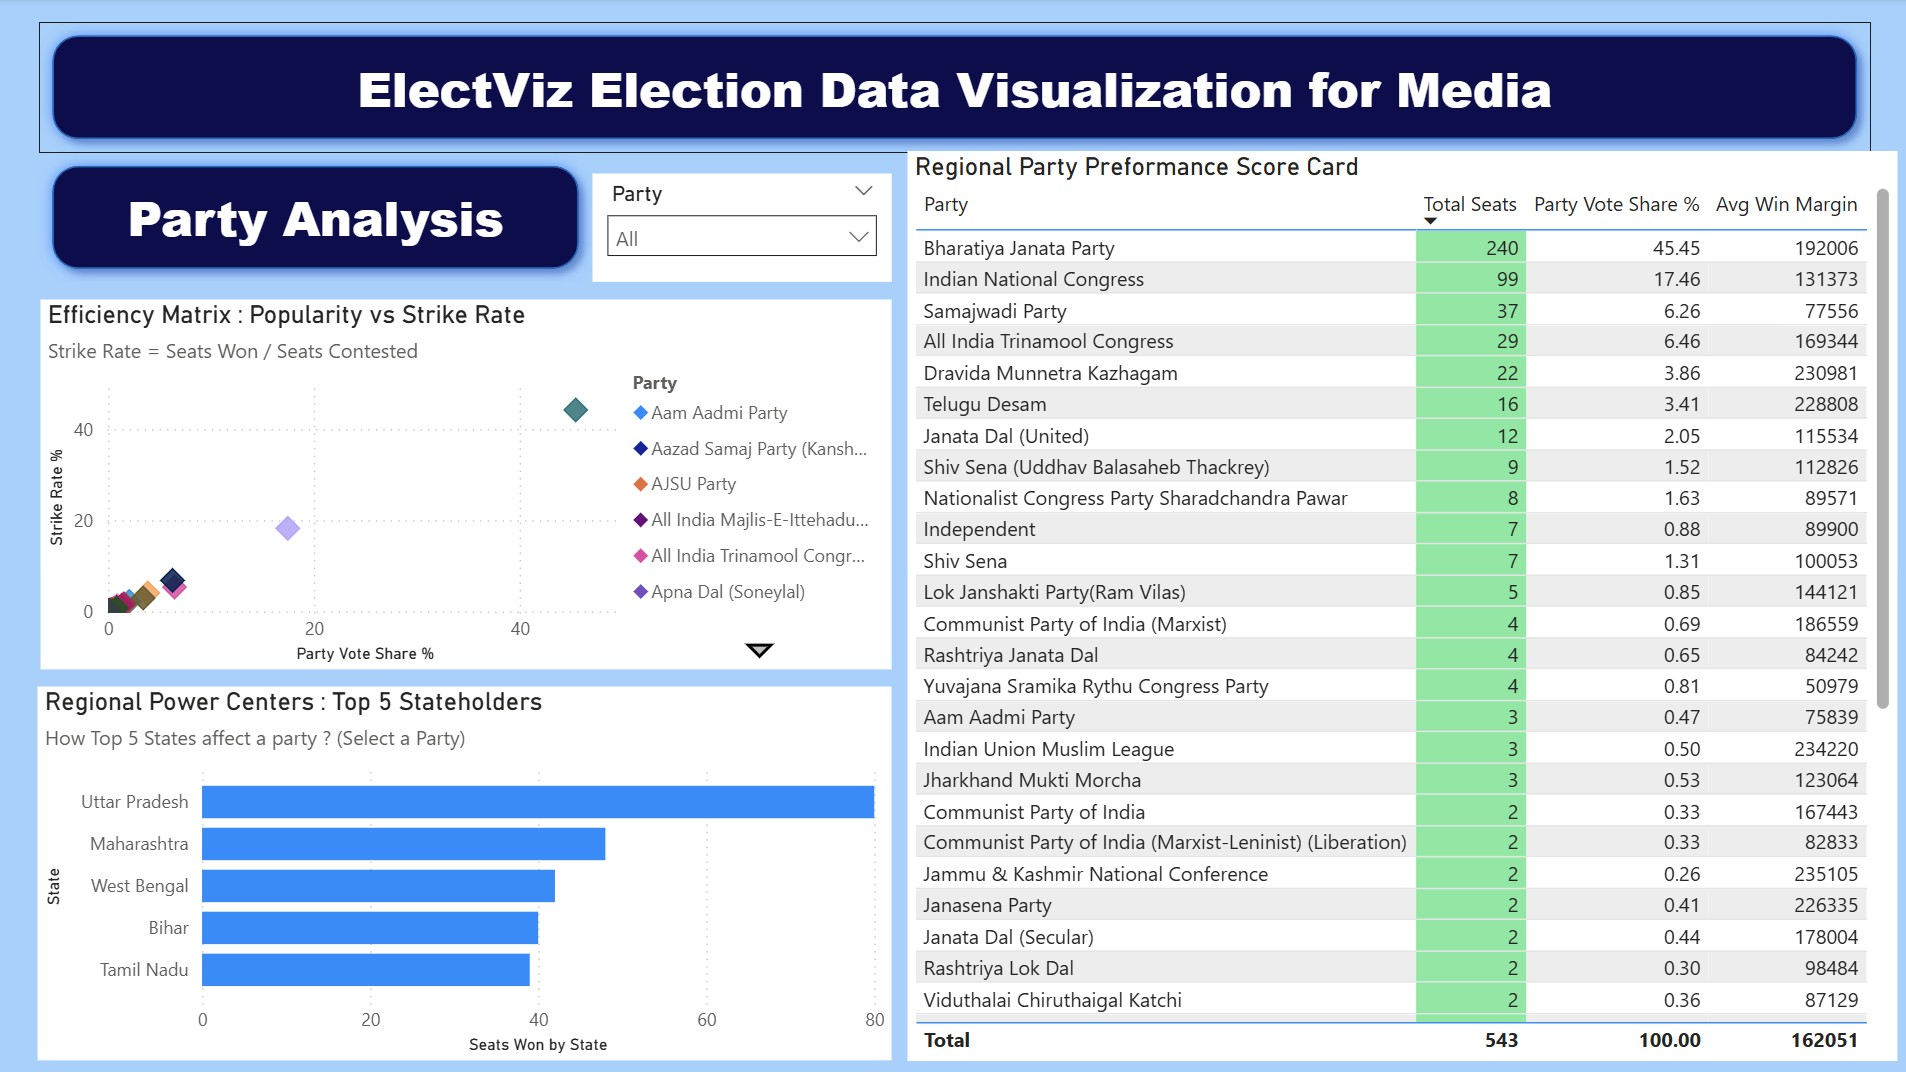

What the dashboard file says about the page in this screenshot:
{"tool":"powerbi","page":{"name":"Party Analysis","canvas":[1280,720],"ordinal":2},"visuals":[{"type":"shape","box":[26.2,16.1,1228,87.5],"z":0},{"type":"shape","box":[26.7,103.1,370.8,86.9],"z":1000},{"type":"tableEx","title":"Regional Party Preformance Score Card","fields":{"Values":["partywise_results.Party","partywise_results.Total Seats","partywise_results.Party Vote Share %","partywise_results.Avg Win Margin"]},"box":[608.2,102.7,663.6,610],"z":2000},{"type":"scatterChart","title":"Efficiency Matrix : Popularity vs Strike Rate","fields":{"X":["partywise_results.Party Vote Share %"],"Y":["partywise_results.Strike Rate %"],"Series":["partywise_results.Party"]},"box":[27.3,201.8,570.9,248.2],"z":3000},{"type":"clusteredBarChart","title":"Regional Power Centers : Top 5 Stateholders","fields":{"Category":["states.State"],"Y":["partywise_results.Seats Won new2"]},"box":[25.5,461.8,572.7,250.9],"z":4000},{"type":"slicer","fields":{"Values":["partywise_results.Party"]},"box":[397.3,117.3,200.9,72.7],"z":5000}]}

Visuals, with their boxes in screenshot pixels (x1, y1, x2, y2), scaled from the page's 1280x720 canvas onto the 1906x1072 screenshot:
shape: x1=39 y1=24 x2=1868 y2=154
shape: x1=40 y1=154 x2=592 y2=283
"Regional Party Preformance Score Card" tableEx: x1=906 y1=153 x2=1894 y2=1061
"Efficiency Matrix : Popularity vs Strike Rate" scatterChart: x1=41 y1=300 x2=891 y2=670
"Regional Power Centers : Top 5 Stateholders" clusteredBarChart: x1=38 y1=688 x2=891 y2=1061
slicer - partywise_results.Party: x1=592 y1=175 x2=891 y2=283
